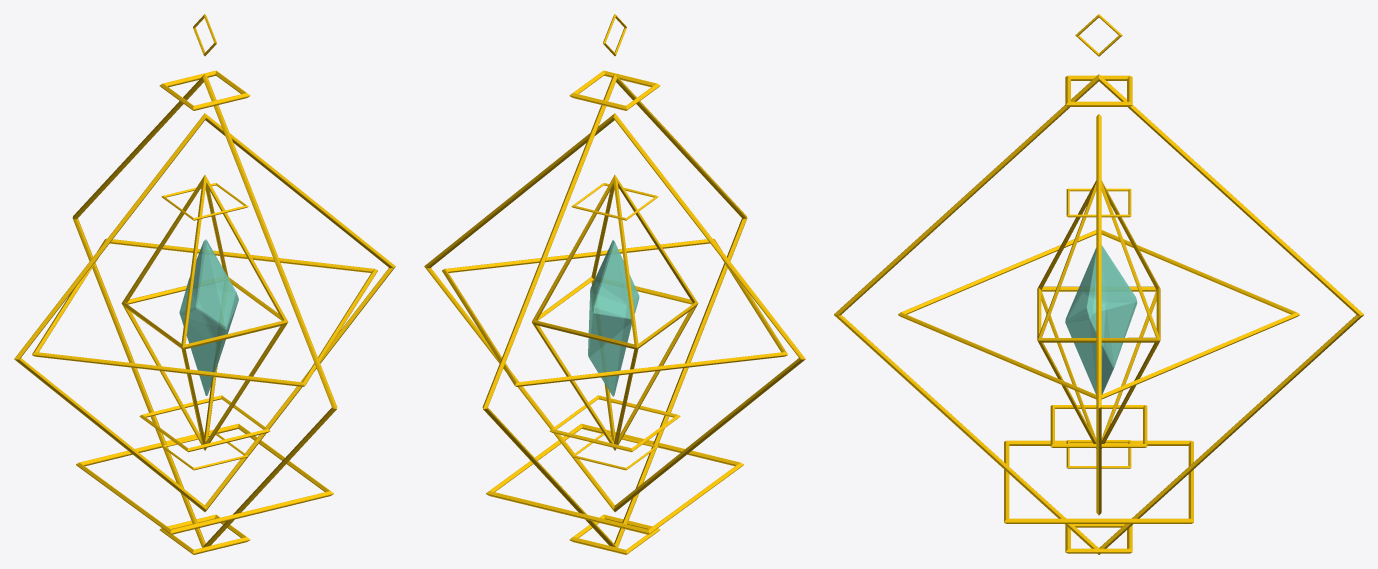
File: Gold Crystal Cage.fbx
3 views of the same model, side by side, from view 1: azimuth 30°, elevation 25°; view 2: azimuth 150°, elevation 25°; view 3: azimuth 270°, elevation 25° (orthographic).
Visible parts, largest first — view 1: Cage, Ring_Outer, Ring_Inner, Crystal, Ring_Inner_Horizontal, Foot_Upper, Halo_Inner_Mid, Halo_Top, Foot_Bottom, Halo_Inner_Top, Halo_Inner_Bottom; view 2: Cage, Ring_Outer, Ring_Inner, Crystal, Ring_Inner_Horizontal, Foot_Upper, Halo_Inner_Mid, Halo_Top, Foot_Bottom, Halo_Inner_Top, Halo_Inner_Bottom; view 3: Ring_Outer, Cage, Crystal, Ring_Inner_Horizontal, Foot_Upper, Ring_Inner, Halo_Inner_Mid, Halo_Top, Foot_Bottom.
Part boxes in pixels (box(x1,y1,x2,y2)): Cage: box(121, 175, 288, 450); Ring_Outer: box(72, 74, 337, 547); Ring_Inner: box(14, 113, 395, 511); Crystal: box(179, 239, 238, 395); Ring_Inner_Horizontal: box(32, 238, 377, 386); Foot_Upper: box(76, 423, 333, 534); Halo_Inner_Mid: box(139, 395, 270, 452); Halo_Top: box(159, 70, 250, 110); Foot_Bottom: box(159, 514, 250, 554); Halo_Inner_Top: box(161, 183, 248, 220); Halo_Inner_Bottom: box(161, 433, 248, 470); Cage: box(532, 175, 698, 450); Ring_Outer: box(482, 74, 747, 547); Ring_Inner: box(424, 113, 805, 511); Crystal: box(588, 239, 639, 396); Ring_Inner_Horizontal: box(442, 238, 787, 386); Foot_Upper: box(486, 423, 743, 534); Halo_Inner_Mid: box(549, 395, 680, 452); Halo_Top: box(569, 70, 660, 110); Foot_Bottom: box(569, 514, 660, 554); Halo_Inner_Top: box(571, 183, 658, 220); Halo_Inner_Bottom: box(571, 433, 658, 470); Ring_Outer: box(834, 74, 1363, 554); Cage: box(1037, 180, 1160, 448); Crystal: box(1065, 245, 1137, 394); Ring_Inner_Horizontal: box(898, 230, 1299, 399); Foot_Upper: box(1004, 440, 1193, 523); Ring_Inner: box(1096, 114, 1101, 515); Halo_Inner_Mid: box(1050, 405, 1147, 447); Halo_Top: box(1065, 75, 1132, 106); Foot_Bottom: box(1065, 524, 1132, 553).
Bounding box in the file's own units: 3.59 × 4.84 × 4.3.
